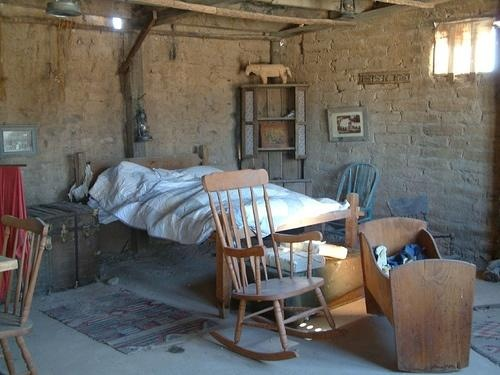chair: (200, 169, 348, 362), (3, 215, 50, 374), (322, 163, 381, 244)
